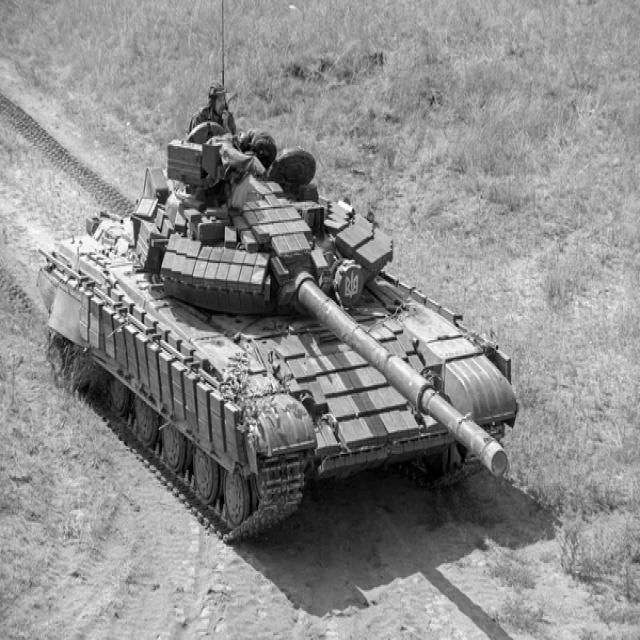Tank: (37, 119, 520, 545)
